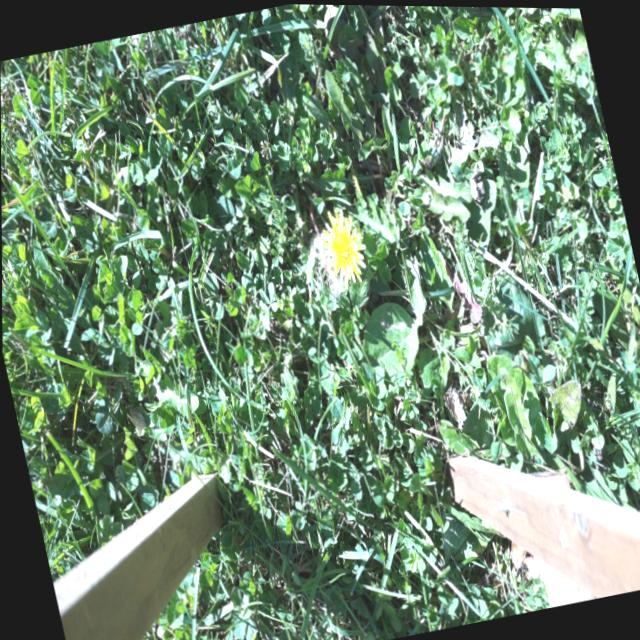base: (298, 181, 324, 217)
